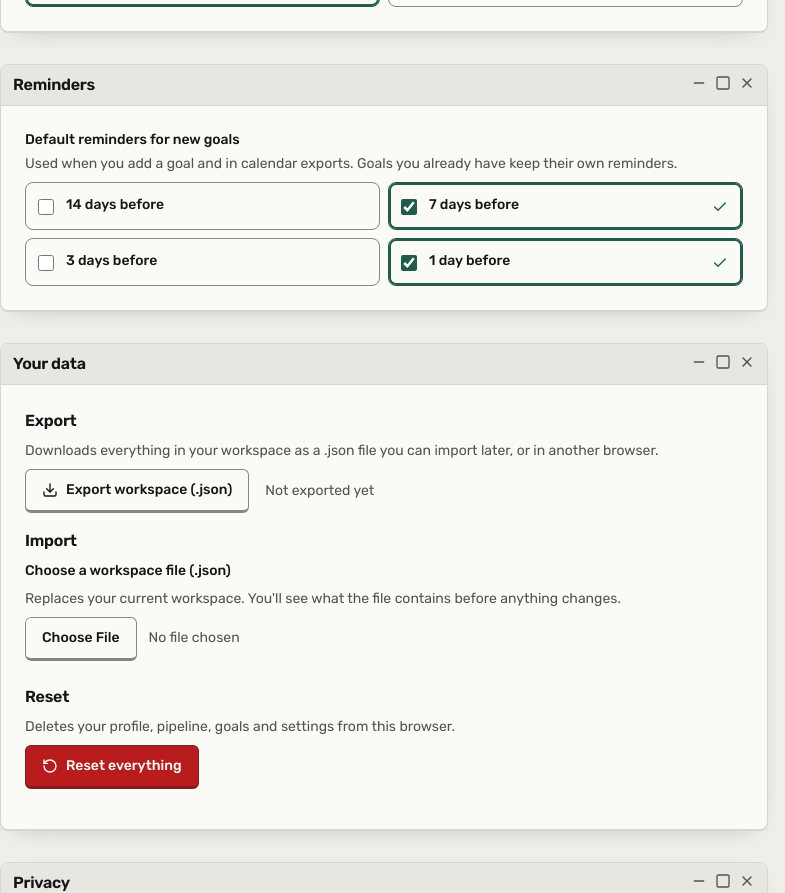
Test case: Settings › exports and records the export
(page scrolled)
Click the button "Export workspace (.json)" at (137, 491), box [25, 469, 249, 513]
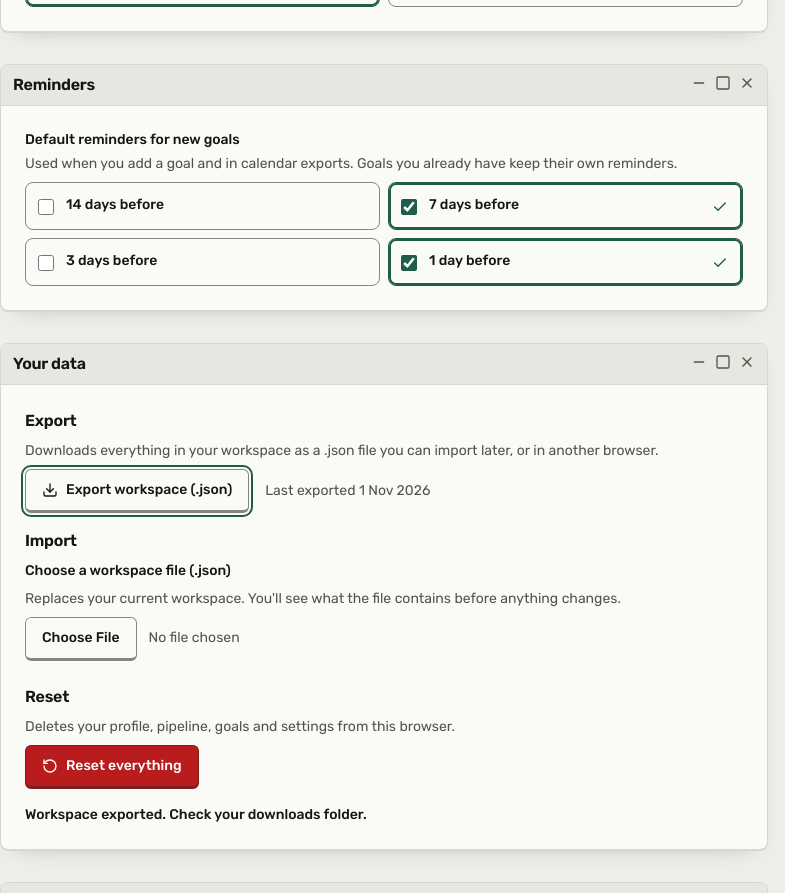
Expected: the message shows "Workspace exported", [25, 806, 367, 823]
